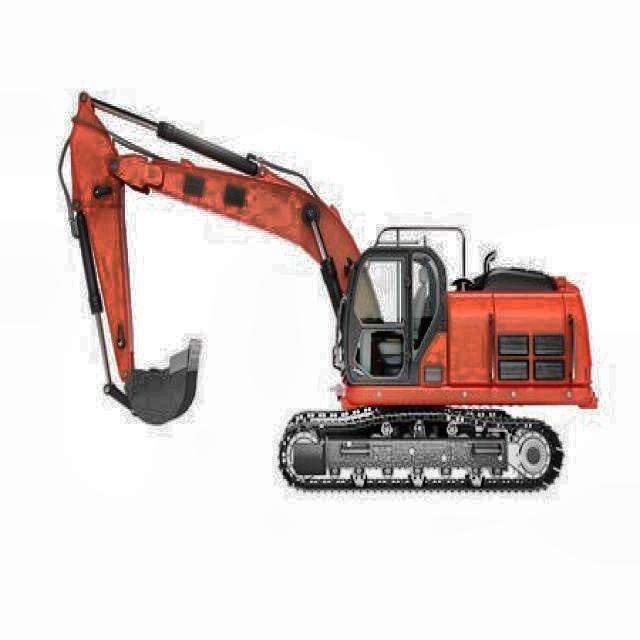excavator: (58, 80, 602, 499)
